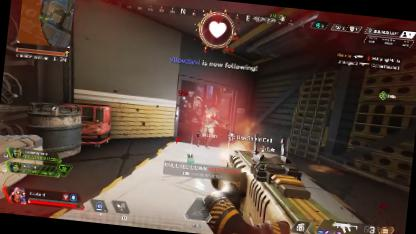Target: (199, 104, 219, 134)
